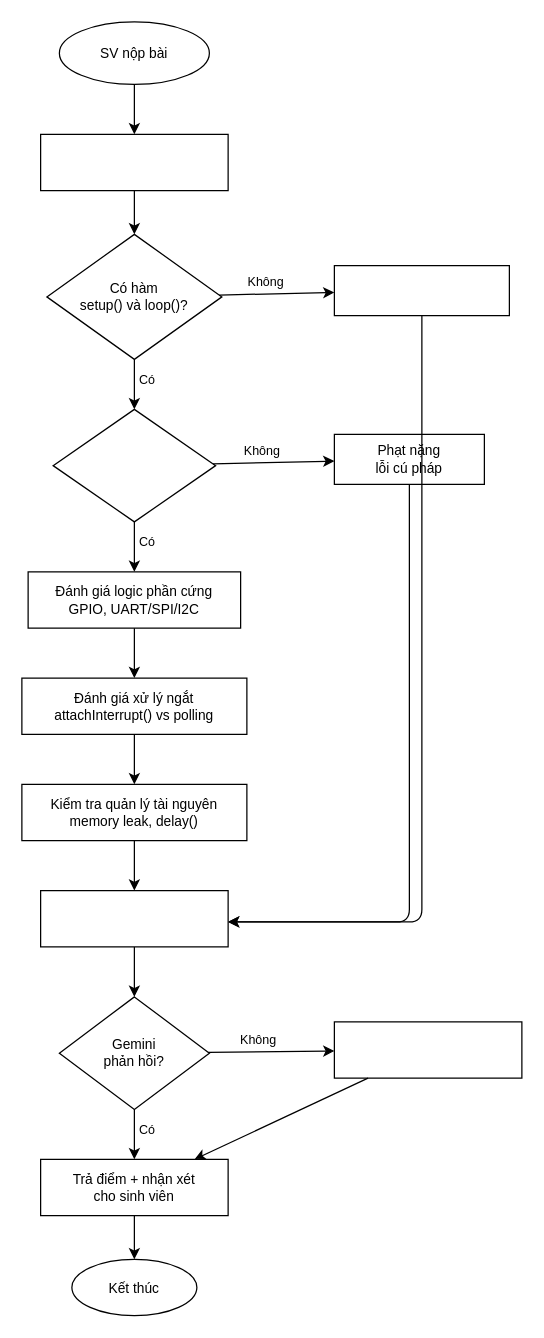
The diagram is 544 pixels wide and 1338 high, and some of its shapes have lost their labels. Each missing label, with the box of its shape:
Chuyển sang LLaMA 3.3 (Groq): (333, 1021, 522, 1078)
Code biên dịch được?: (52, 408, 216, 522)
Nhận code .ino từ sinh viên: (39, 133, 228, 191)
Tổng hợp prompt gửi lên LLM: (39, 889, 228, 947)
Điểm tối đa: 4/10: (333, 264, 509, 316)
